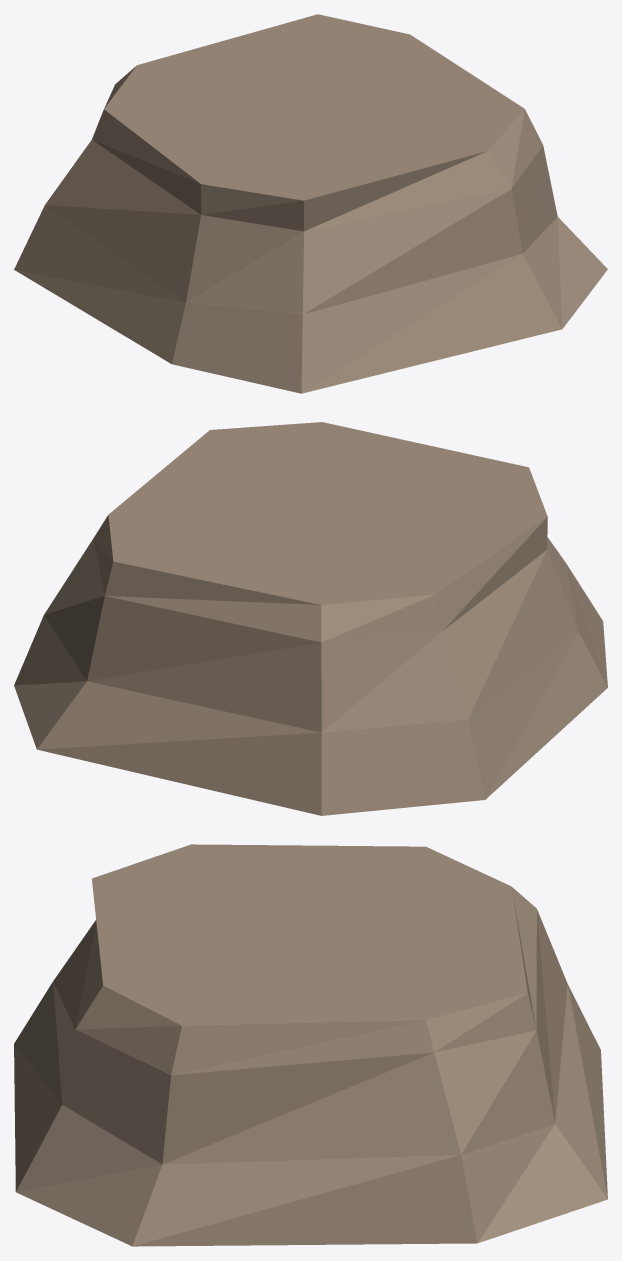
Rendered from magma_escape_rock_5.obj.
3 views of the same model, one above another, from view 1: azimuth 30°, elevation 25°; view 2: azimuth 150°, elevation 25°; view 3: azimuth 270°, elevation 25° (orthographic). The views are drawn at different scales.
Visible parts, largest first — view 1: magma_escape_rock_5; view 2: magma_escape_rock_5; view 3: magma_escape_rock_5.
Boxes of the visible parts, x1=… form: magma_escape_rock_5: x1=14, y1=14, x2=607, y2=393; magma_escape_rock_5: x1=14, y1=422, x2=607, y2=815; magma_escape_rock_5: x1=14, y1=844, x2=607, y2=1246.
Size of the model in its own units: 2.92 by 1 by 2.9.
